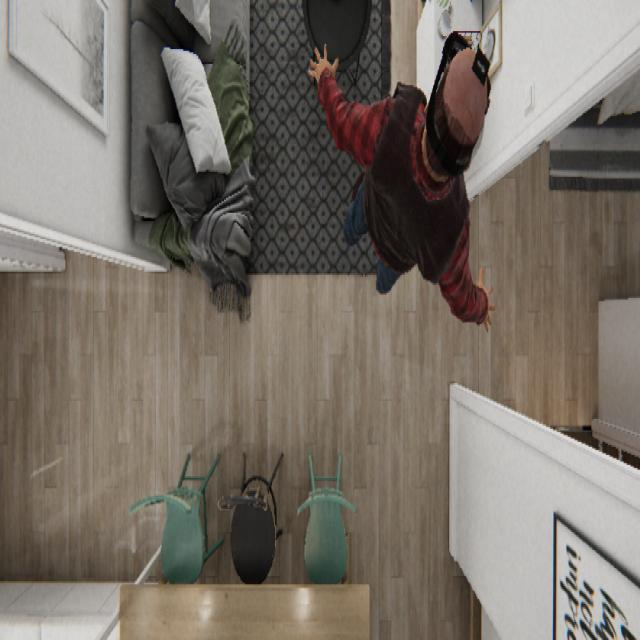Human: (307, 30, 496, 332)
